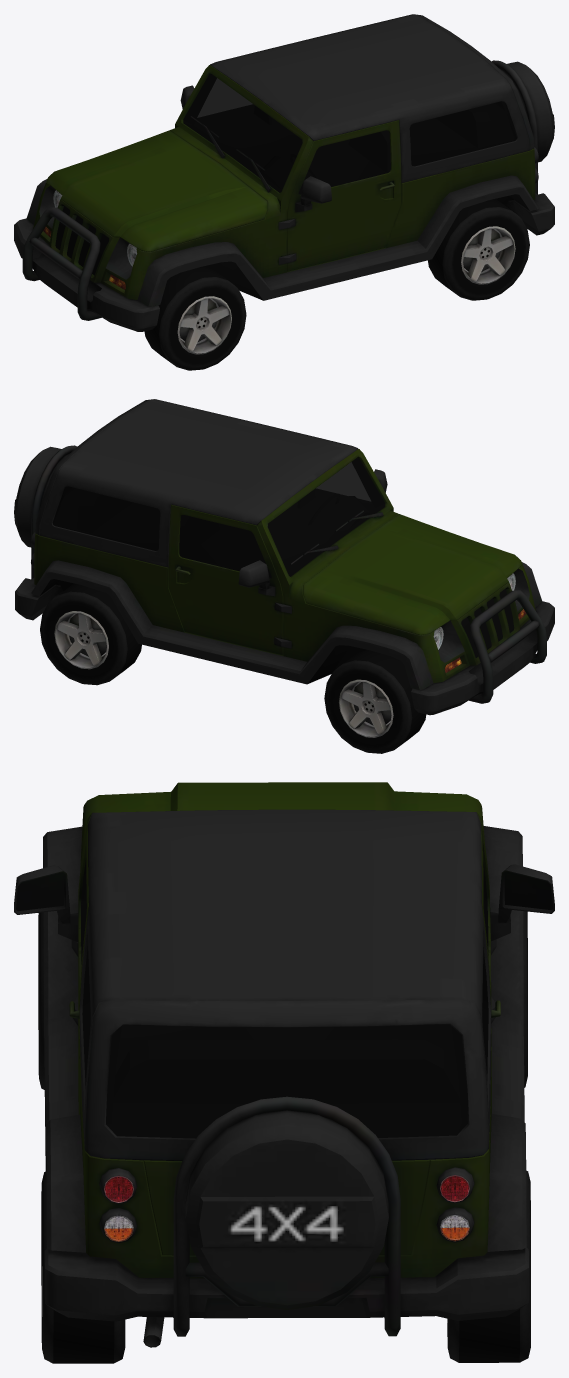
The model's file is goffroad.glb.
3 renders of one model, top to bottom at view 1: azimuth 30°, elevation 25°; view 2: azimuth 150°, elevation 25°; view 3: azimuth 270°, elevation 25°, orthographic. The views are drawn at different scales.
Parts seen in each view (by area): view 1: body, spin_RR, spin_FR; view 2: body, spin_RL, spin_FL; view 3: body, spin_FR, spin_FL, spin_RR, spin_RL.
Part boxes in pixels (bbox=[...]): body: bbox=[14, 14, 554, 331]; spin_RR: bbox=[144, 266, 246, 370]; spin_FR: bbox=[428, 199, 529, 300]; body: bbox=[14, 399, 554, 715]; spin_RL: bbox=[324, 650, 426, 753]; spin_FL: bbox=[40, 583, 141, 685]; body: bbox=[14, 782, 554, 1347]; spin_FR: bbox=[41, 1171, 125, 1363]; spin_FL: bbox=[447, 1170, 530, 1362]; spin_RR: bbox=[38, 912, 44, 1089]; spin_RL: bbox=[523, 911, 527, 1087].
Bounding box in the file's own units: 4.3 × 1.71 × 2.14.
4 materials, 3 textured.
